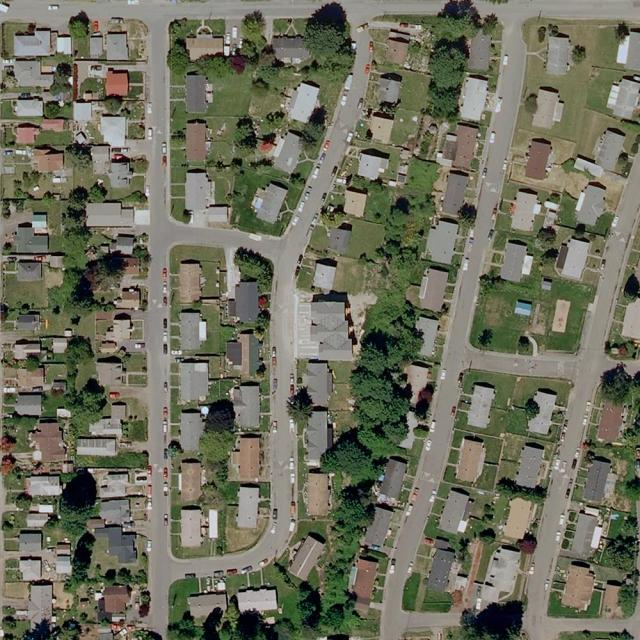building: (307, 292, 354, 363), (184, 168, 231, 226), (425, 537, 466, 595), (287, 529, 330, 583), (246, 175, 291, 226), (180, 17, 228, 62), (484, 543, 524, 595), (561, 560, 598, 613), (423, 215, 460, 265), (184, 168, 215, 226), (531, 84, 567, 131), (499, 239, 536, 284), (573, 180, 608, 227), (436, 489, 471, 536), (348, 558, 378, 612), (465, 380, 498, 429), (527, 386, 559, 436), (594, 125, 627, 173), (455, 436, 488, 484), (416, 266, 450, 312), (226, 330, 260, 375), (271, 129, 304, 175), (29, 421, 65, 463), (514, 441, 544, 489), (569, 512, 599, 560), (581, 458, 612, 504), (363, 505, 394, 550), (290, 80, 321, 125), (378, 454, 408, 500), (304, 360, 334, 406), (503, 497, 534, 541), (450, 122, 479, 169), (525, 136, 554, 182), (403, 361, 433, 405), (441, 169, 469, 216), (27, 579, 53, 629), (561, 237, 591, 280), (510, 187, 538, 233), (460, 75, 488, 121), (232, 382, 260, 428), (105, 524, 138, 563), (409, 315, 439, 357), (184, 71, 214, 113), (93, 353, 127, 389), (180, 359, 209, 401), (86, 202, 134, 227), (597, 401, 624, 445), (187, 591, 229, 619), (4, 366, 46, 394), (272, 35, 311, 65), (13, 28, 52, 58), (89, 469, 129, 498), (237, 585, 278, 613), (180, 309, 208, 350), (546, 34, 572, 76), (15, 222, 49, 254), (13, 61, 54, 87), (467, 29, 492, 71), (179, 505, 203, 548), (471, 581, 502, 614), (306, 472, 329, 516), (236, 484, 259, 528), (180, 409, 204, 451), (308, 409, 328, 459), (239, 434, 260, 481), (31, 144, 65, 173), (326, 219, 353, 255), (398, 411, 422, 451), (235, 281, 259, 321), (312, 256, 338, 292), (107, 153, 133, 189), (367, 111, 394, 145), (180, 260, 201, 303), (385, 30, 410, 66), (104, 312, 134, 342), (601, 580, 624, 619), (341, 185, 368, 218), (102, 585, 131, 614), (186, 119, 206, 161), (181, 459, 201, 501), (377, 72, 403, 104), (100, 116, 126, 148), (99, 499, 131, 525), (26, 474, 63, 496), (76, 437, 116, 456), (356, 152, 382, 181), (438, 132, 463, 162), (551, 299, 572, 334), (113, 286, 142, 311), (104, 69, 129, 97), (15, 392, 43, 417), (89, 417, 123, 437), (106, 31, 128, 59), (13, 338, 41, 360), (55, 541, 73, 575), (111, 231, 135, 256), (15, 97, 44, 117), (15, 123, 41, 145), (19, 556, 41, 581), (18, 260, 42, 281), (15, 311, 40, 331), (19, 530, 42, 551), (110, 399, 129, 422), (90, 143, 111, 163), (89, 32, 104, 59), (513, 299, 534, 318), (31, 211, 48, 234), (26, 512, 49, 529), (72, 101, 91, 121), (86, 516, 105, 534), (123, 257, 140, 276), (590, 526, 604, 549), (41, 118, 65, 131), (56, 34, 71, 54), (99, 341, 119, 355), (52, 337, 68, 354), (93, 526, 109, 539), (583, 506, 600, 516), (37, 504, 54, 514)
greenland: (358, 155, 445, 379), (318, 359, 424, 494), (304, 472, 382, 632), (454, 365, 572, 447), (410, 0, 487, 122), (36, 241, 139, 330), (198, 472, 276, 565), (470, 269, 536, 353), (67, 334, 109, 453), (259, 556, 317, 640), (194, 47, 285, 96), (49, 464, 106, 540), (193, 395, 245, 476), (231, 166, 289, 235), (224, 243, 284, 297), (292, 102, 339, 158), (279, 61, 349, 97), (159, 15, 199, 76), (169, 102, 189, 222), (62, 186, 91, 268), (581, 63, 624, 116), (64, 530, 99, 594), (353, 172, 394, 225), (206, 72, 252, 117), (597, 360, 640, 408), (546, 277, 596, 318), (345, 218, 387, 263), (494, 475, 549, 507), (257, 108, 311, 140), (169, 244, 226, 273), (1, 413, 38, 455), (4, 274, 48, 309), (200, 304, 230, 355), (547, 589, 601, 617), (239, 9, 268, 61), (294, 580, 324, 630), (615, 446, 640, 505), (389, 107, 423, 149), (548, 314, 583, 353), (169, 578, 198, 623), (584, 208, 621, 243), (592, 25, 621, 68), (76, 451, 149, 468), (19, 619, 81, 639), (400, 71, 430, 112), (247, 88, 283, 122), (2, 21, 35, 57), (533, 226, 561, 268), (87, 566, 148, 585), (528, 300, 550, 349), (490, 212, 516, 253), (618, 569, 639, 616), (399, 570, 423, 611), (421, 588, 455, 616), (234, 115, 258, 154), (488, 493, 512, 532), (65, 140, 94, 171), (557, 192, 581, 228), (511, 231, 550, 253), (50, 61, 74, 96), (513, 279, 544, 305), (68, 10, 91, 40), (558, 630, 634, 639), (474, 463, 498, 491), (2, 616, 29, 639), (476, 523, 499, 547), (423, 516, 444, 539), (484, 438, 501, 463), (89, 182, 108, 202), (204, 19, 225, 36), (80, 313, 95, 333), (571, 44, 586, 64), (443, 465, 458, 483), (286, 186, 301, 203), (451, 430, 465, 448), (448, 448, 461, 465)
metalled_road: (373, 18, 541, 640), (153, 230, 356, 614), (272, 27, 389, 273), (146, 267, 170, 634), (0, 1, 331, 26), (146, 20, 169, 268), (464, 345, 578, 381), (475, 0, 640, 22), (338, 0, 446, 26), (168, 215, 207, 249), (401, 611, 461, 632), (205, 224, 240, 249)
